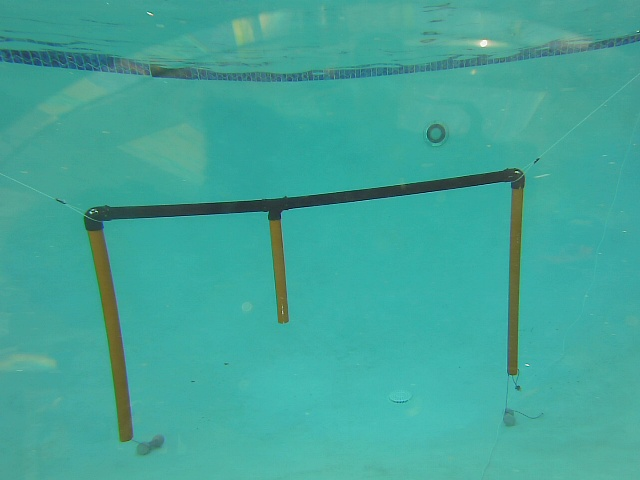Gate: (86, 228, 136, 444), (502, 180, 526, 381), (265, 214, 291, 328)
